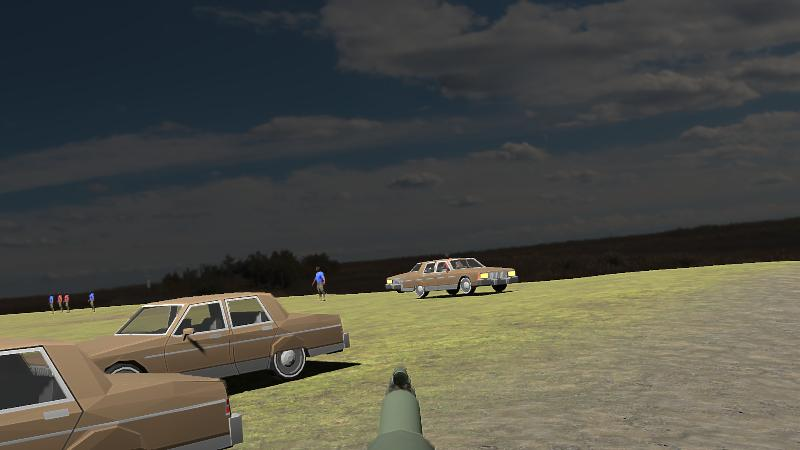Human: (312, 265, 325, 303)
car: (12, 290, 352, 410), (385, 257, 517, 299)
